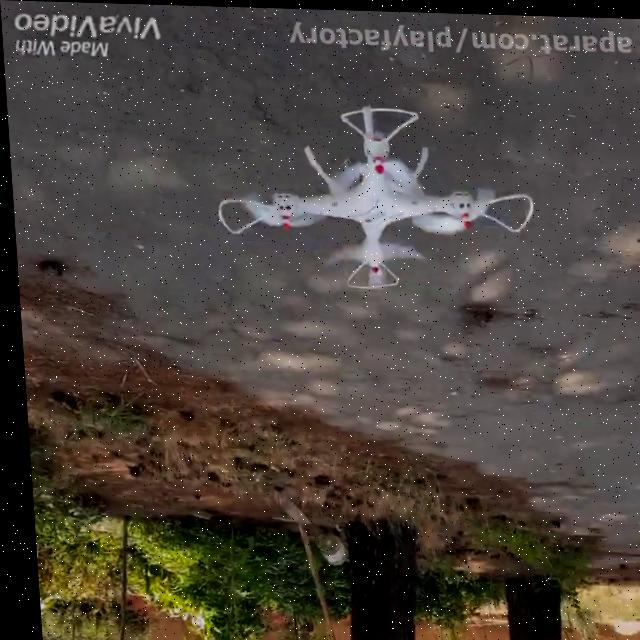drone: (209, 98, 539, 291)
